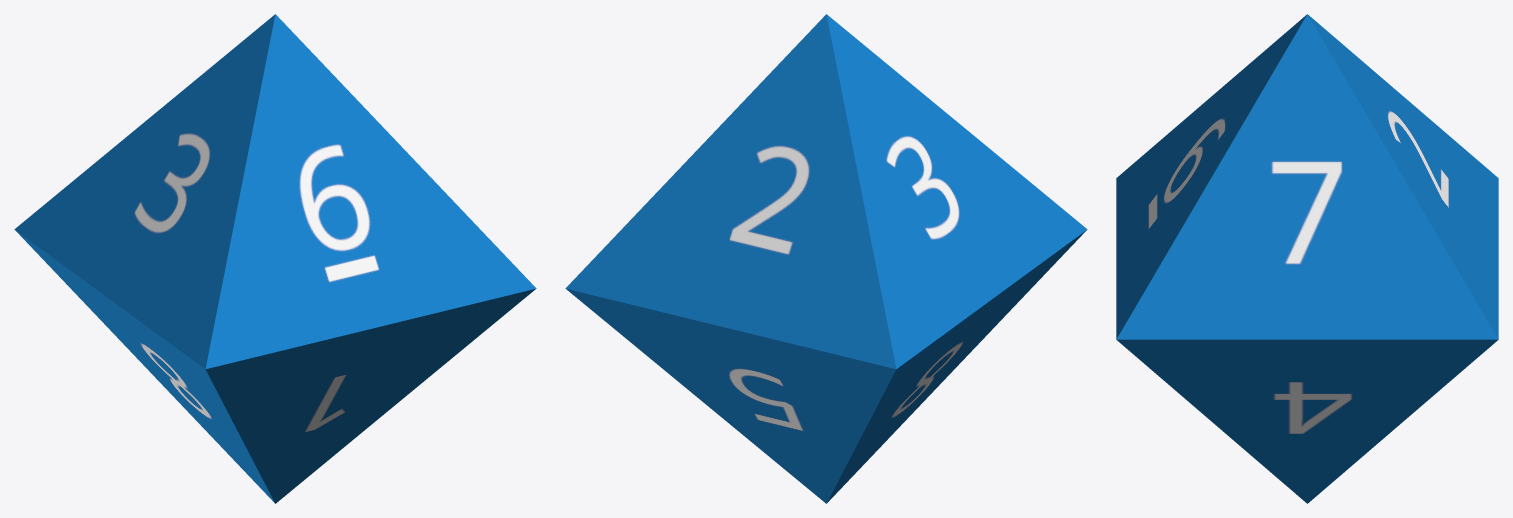
The model's file is d8-blue.glb.
3 renders of one model, left to right at view 1: azimuth 30°, elevation 25°; view 2: azimuth 150°, elevation 25°; view 3: azimuth 270°, elevation 25°, orthographic.
Visible parts, largest first — view 1: Cube; view 2: Cube; view 3: Cube.
Boxes of the visible parts, <box> form: Cube: <box>14,14,536,503</box>; Cube: <box>565,14,1087,503</box>; Cube: <box>1116,14,1498,503</box>.
Size of the model in its own units: 2 by 2.83 by 2.
1 material, 1 textured.
